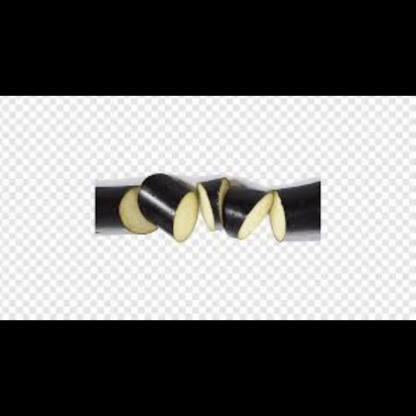eggplant: (136, 170, 202, 245), (268, 179, 326, 252), (92, 181, 160, 239), (221, 184, 274, 242), (197, 174, 233, 234)
